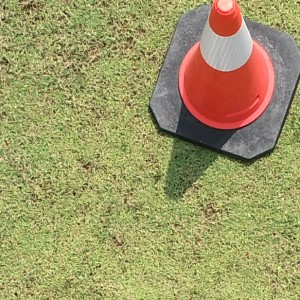traffic cone: (148, 1, 300, 160)
